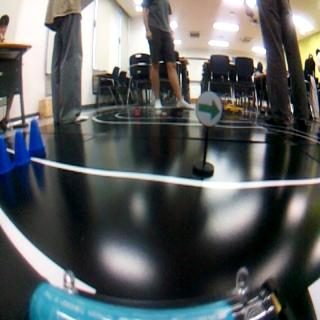right: (196, 92, 221, 129)
